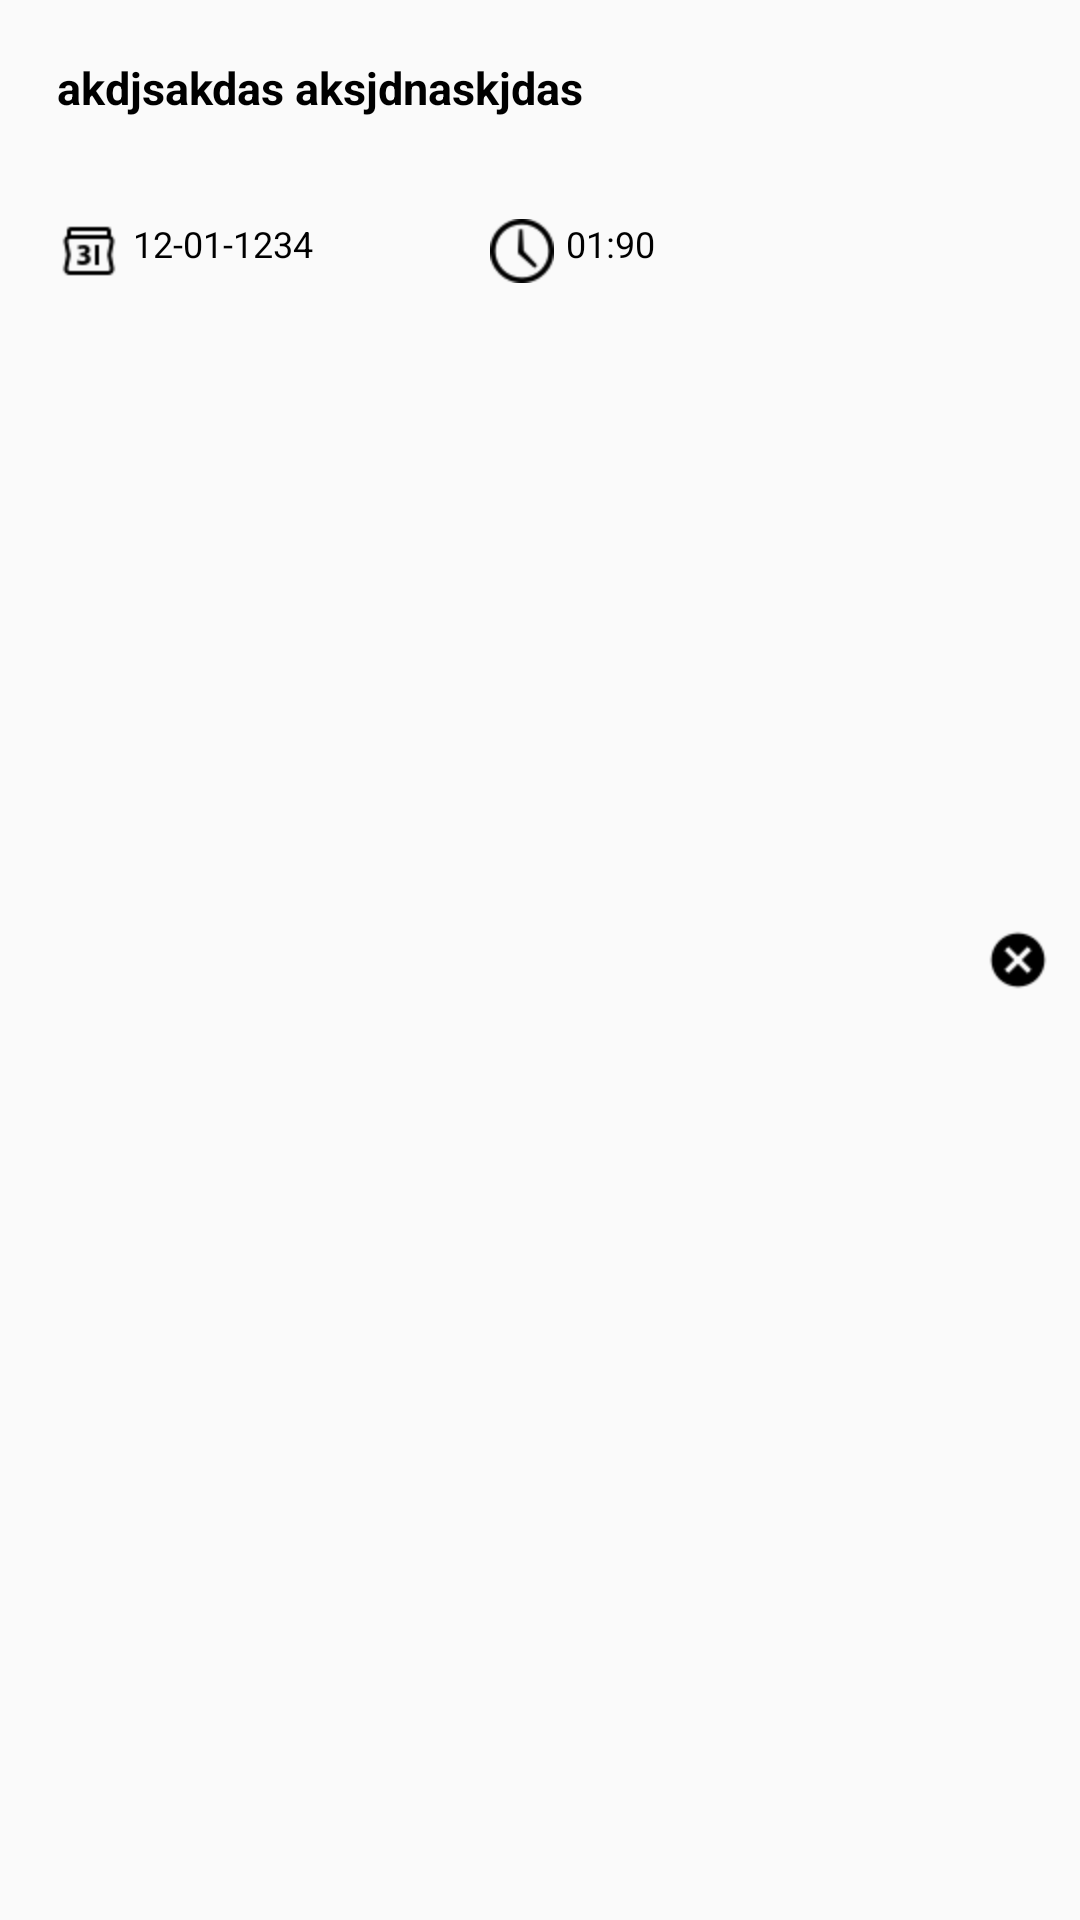

Screen size 1080x1920. Icon name, then its center in pixels as (x,y):
cancel: (1018,960)
